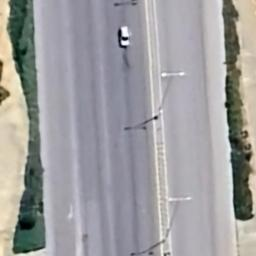SUV: (116, 24, 132, 52)
